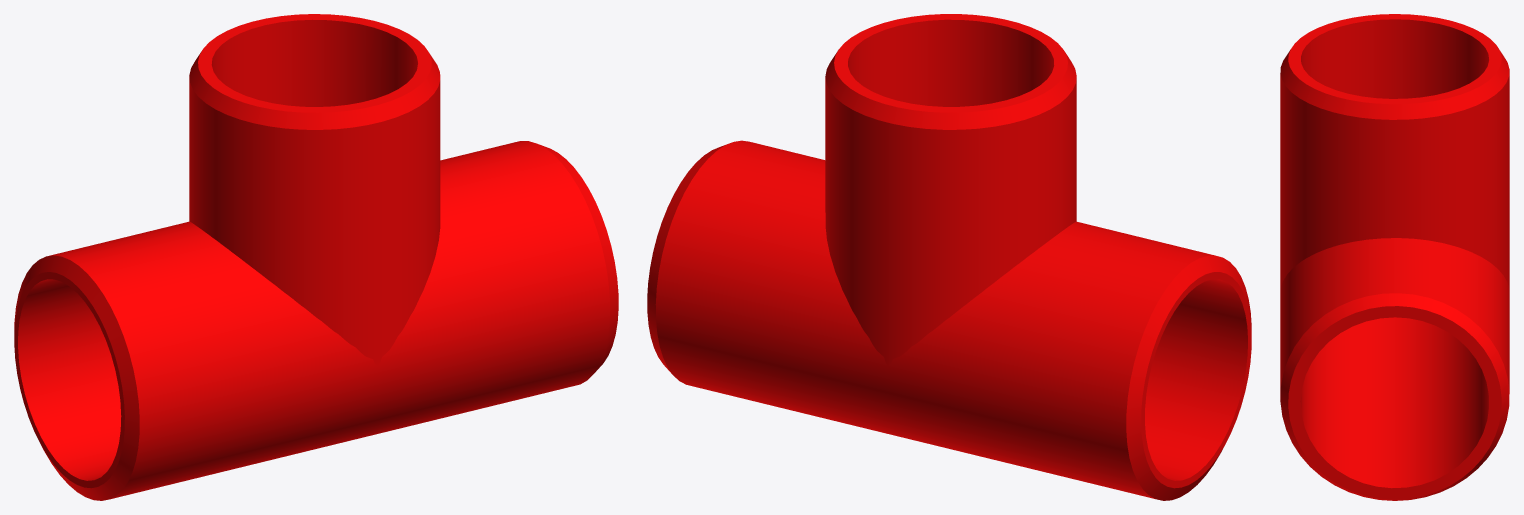
Rendered from 等径三通.obj.
3 renders of one model, left to right at view 1: azimuth 30°, elevation 25°; view 2: azimuth 150°, elevation 25°; view 3: azimuth 270°, elevation 25°, orthographic. The views are drawn at different scales.
Parts seen in each view (by area): view 1: BRep_1; view 2: BRep_1; view 3: BRep_1.
Boxes of the visible parts, bbox=[...] form: BRep_1: bbox=[14, 14, 618, 500]; BRep_1: bbox=[647, 14, 1251, 500]; BRep_1: bbox=[1280, 14, 1509, 500].
Size of the model in its own units: 76 by 54.85 by 33.7.
